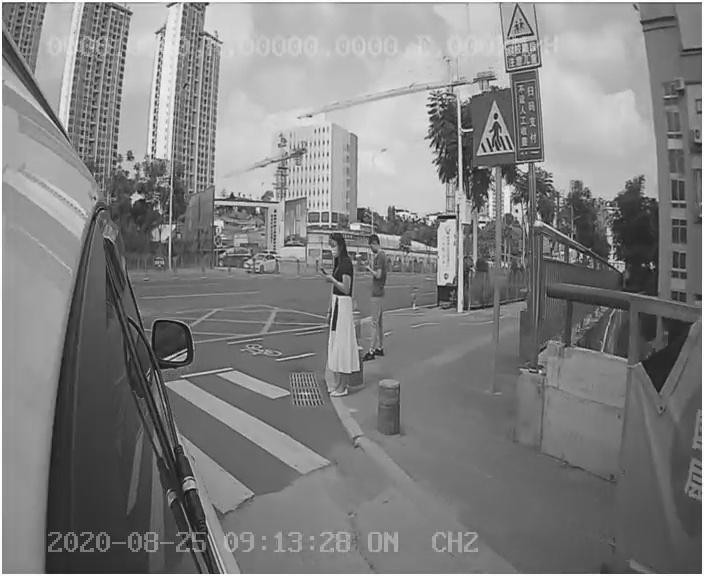person: (312, 233, 363, 400)
